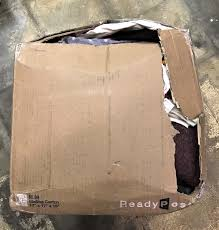damaged package: (34, 19, 205, 194)
